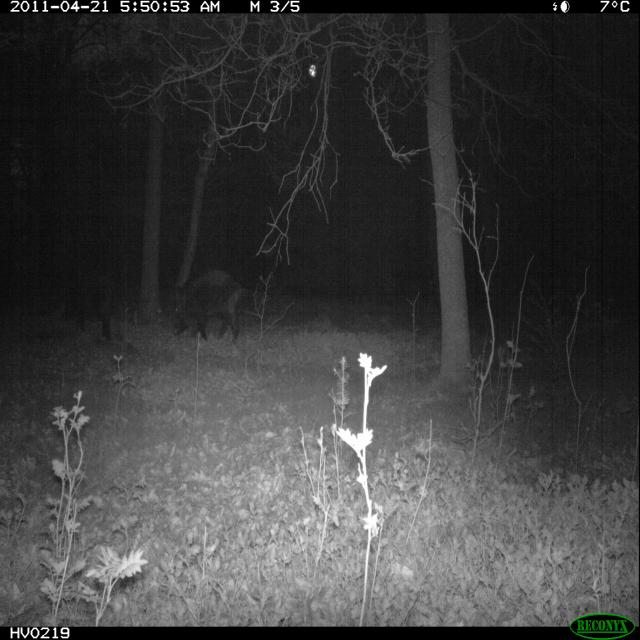boar: (156, 250, 264, 351)
